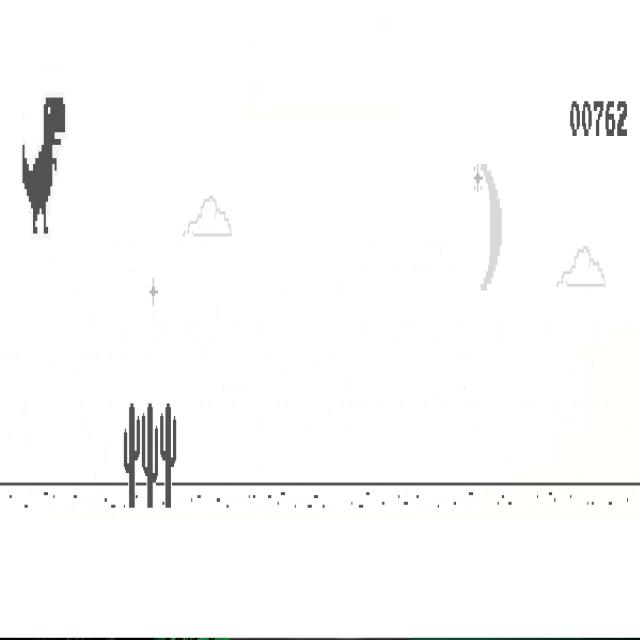cacto: (124, 402, 140, 509), (160, 402, 176, 509), (142, 403, 158, 509)
dino: (23, 96, 66, 234)
